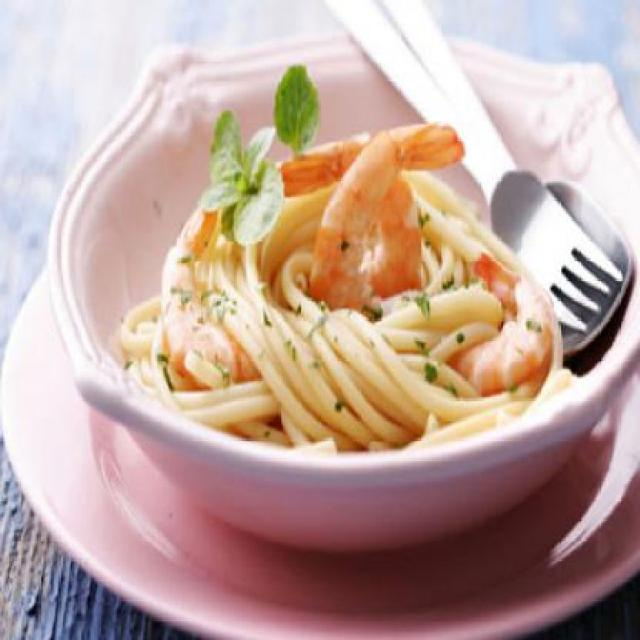Oil pasta: (153, 70, 576, 488)
